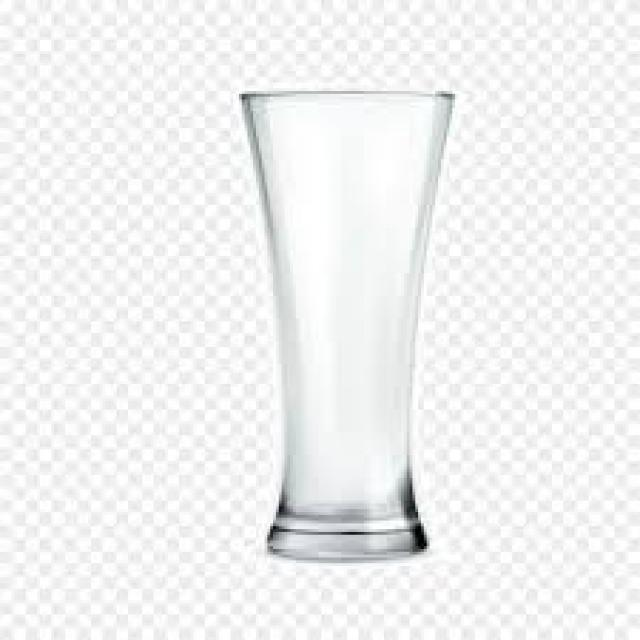Glass-Non-Biodegradable but Recyclable-: (235, 90, 454, 560)
